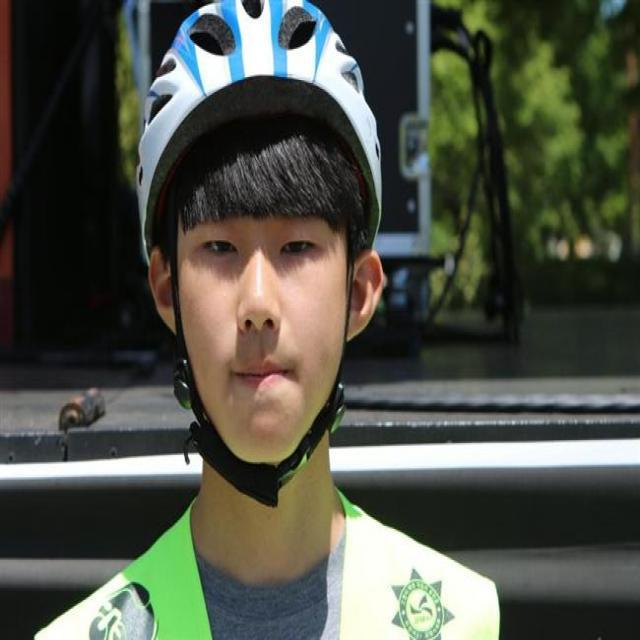Helmet: (119, 1, 408, 504)
